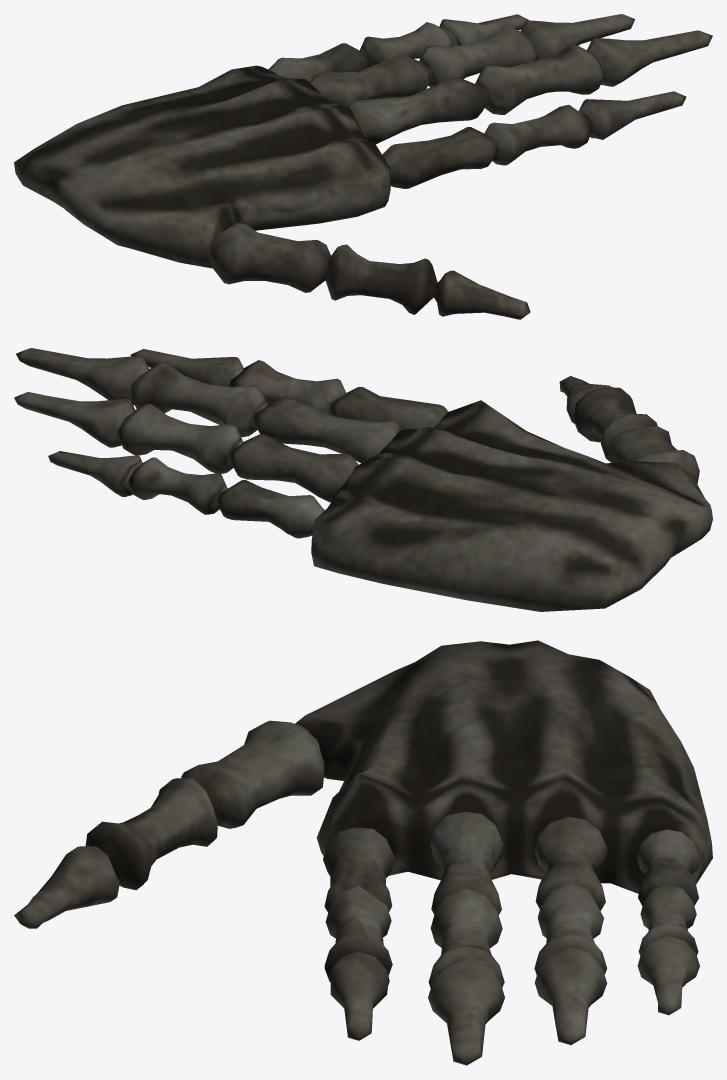
File: left_hand.obj
The picture shows the model from 3 angles, top to bottom: view 1: azimuth 30°, elevation 25°; view 2: azimuth 150°, elevation 25°; view 3: azimuth 270°, elevation 25°; orthographic projection. The views are drawn at different scales.
Visible parts, largest first — view 1: hand_1_izq_Material; view 2: hand_1_izq_Material; view 3: hand_1_izq_Material.
Boxes of the visible parts, x1=… form: hand_1_izq_Material: x1=14, y1=14, x2=712, y2=319; hand_1_izq_Material: x1=14, y1=348, x2=712, y2=611; hand_1_izq_Material: x1=14, y1=640, x2=712, y2=1065.
Size of the model in its own units: 0.1901 by 0.0284 by 0.1352.
